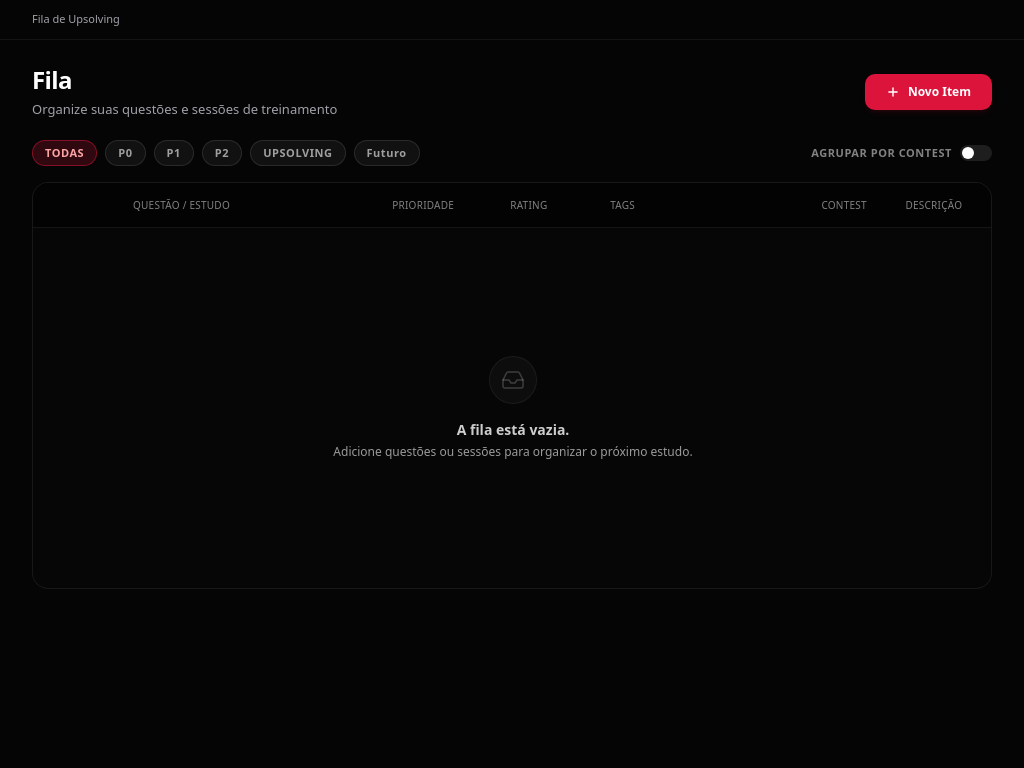
Test: Queue Page › abre e cancela Novo Item sem criar botões aninhados
Click the button "Novo Item" at (928, 92), box 865,74 -> 992,110
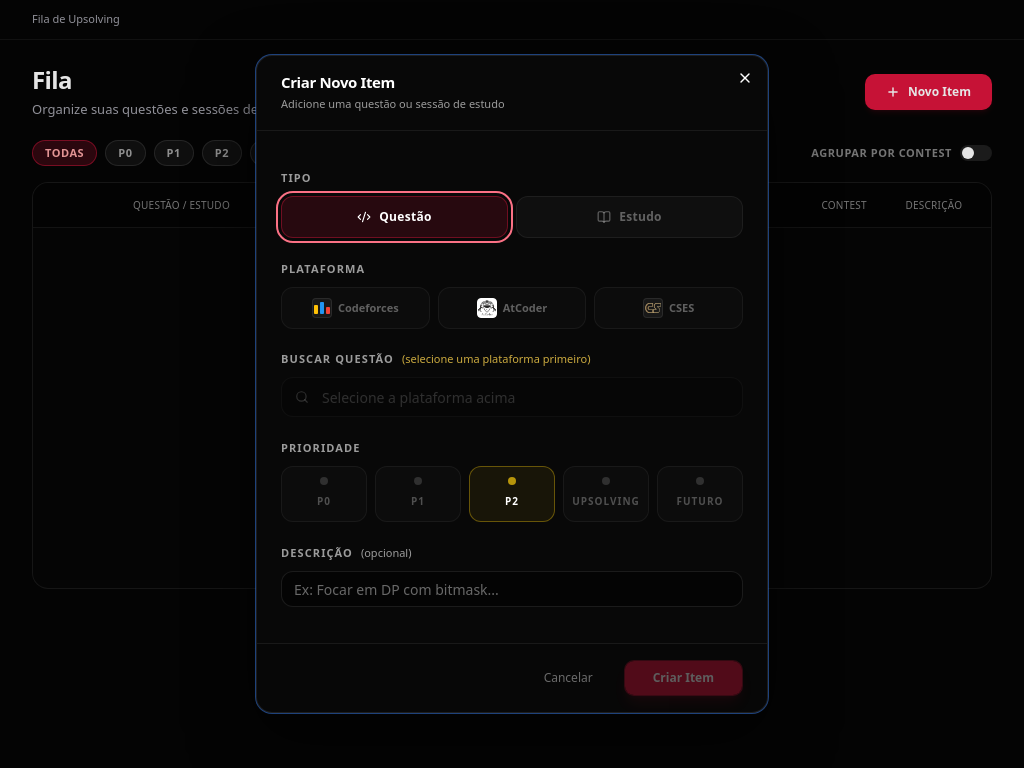
Expected: the dialog is shown, 256,55 -> 768,713
Click the button "Cancelar" at (568, 678), box 523,660 -> 614,696
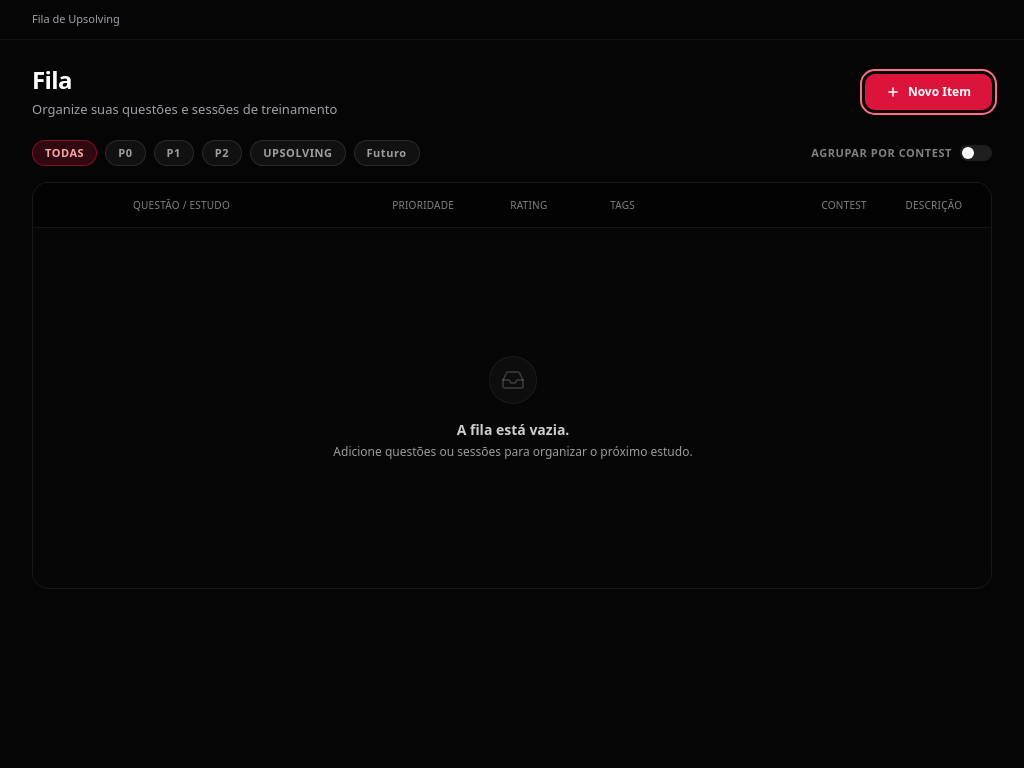
Expected: the dialog is gone
